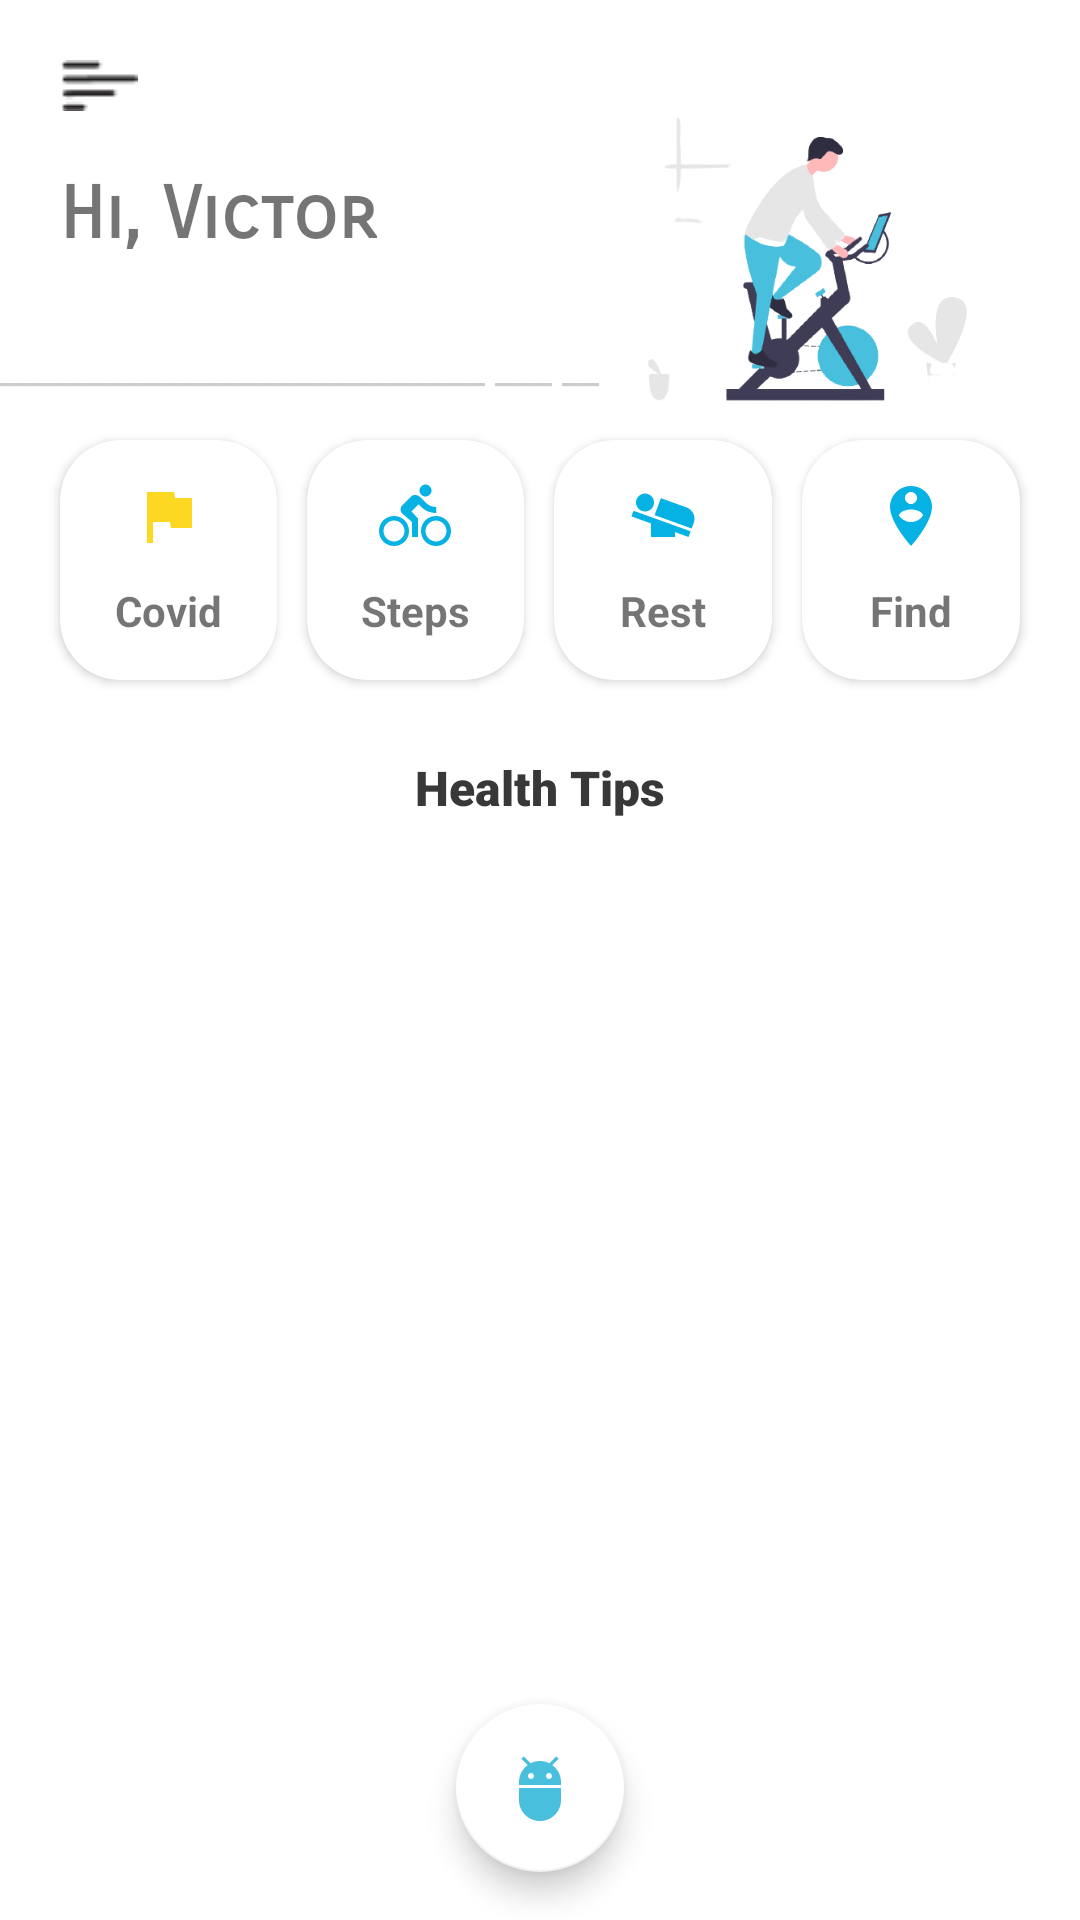

Screen size 1080×1920. Icon name, then its box in pixels as [left=x1, top=y1, right=x2, bottom=y2]:
airline seat angled: [left=631, top=493, right=695, bottom=537]
assistant photo: [left=147, top=492, right=192, bottom=543]
directions bike: [left=379, top=484, right=451, bottom=546]
person pin circle: [left=890, top=486, right=932, bottom=546]
